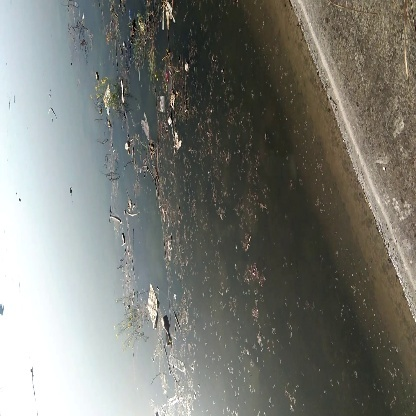plastic-garbage: (138, 281, 163, 329)
